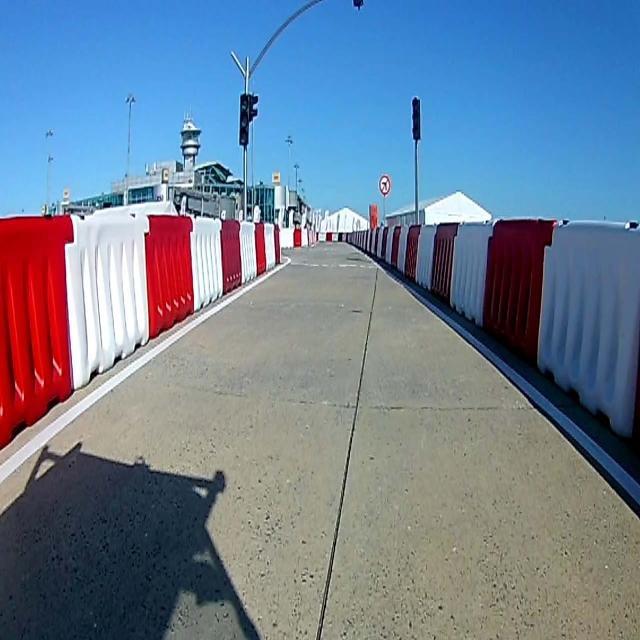soladonulmez: (378, 173, 390, 196)
